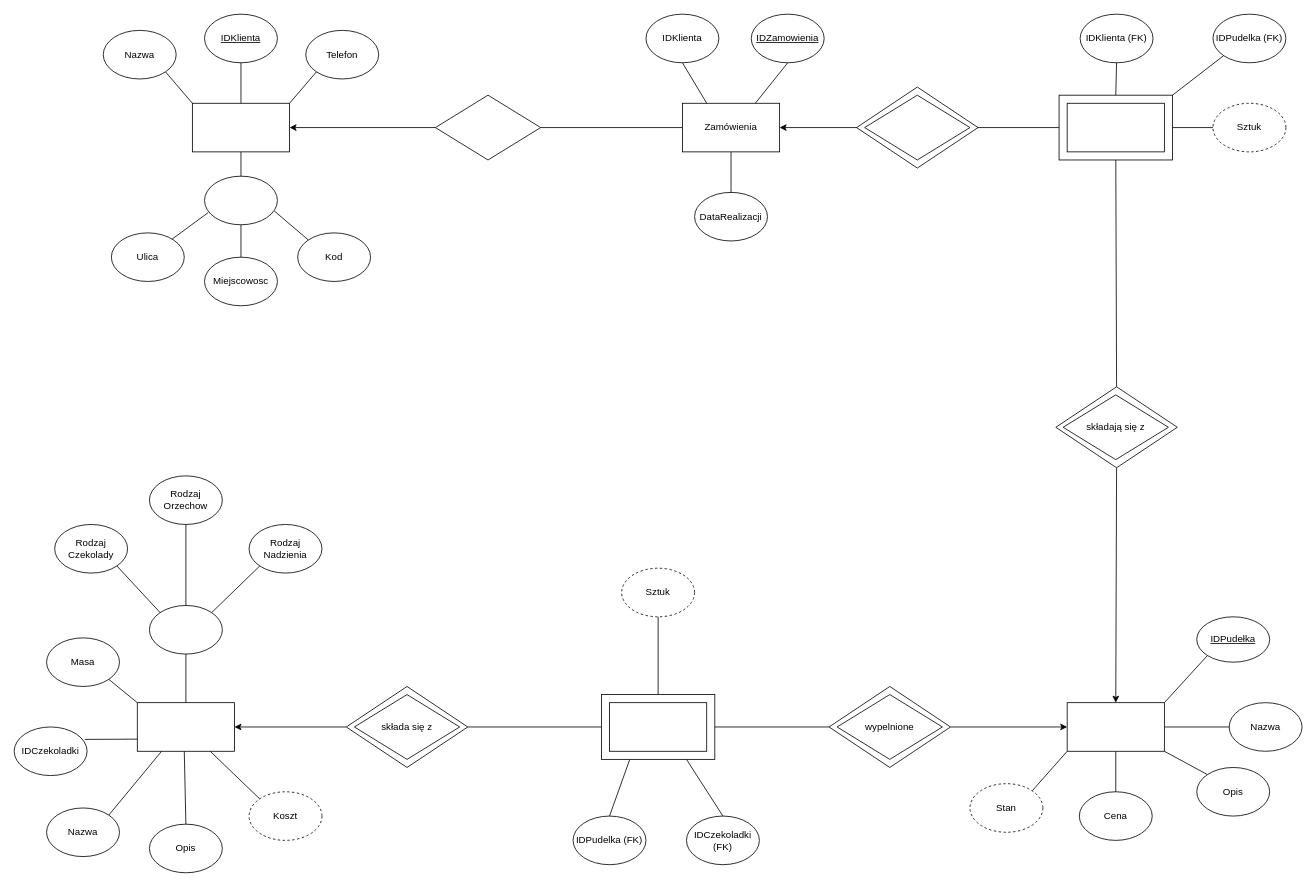
Some shapes in this 1316 by 887 pixel diagram are drawn without their labels. The centre of each missing label's shape, as x and y in pixels:
"Adres" belongs at point (240, 200).
"Artykuly" belongs at point (1115, 127).
"Czekoladki" belongs at point (185, 726).
"Klienci" belongs at point (241, 127).
"na" belongs at point (917, 127).
"Pudełka" belongs at point (1115, 726).
"Skład" belongs at point (185, 629).
"składają" belongs at point (488, 127).
"Zawartość" belongs at point (658, 726).
